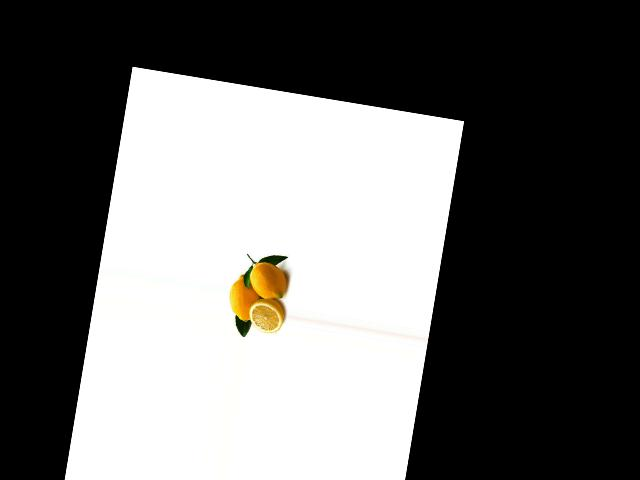lemon: (224, 270, 266, 322)
